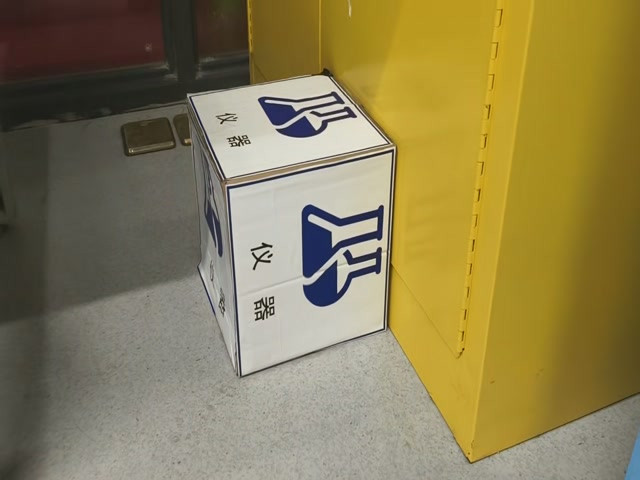Cube_ins: (186, 74, 398, 189)
